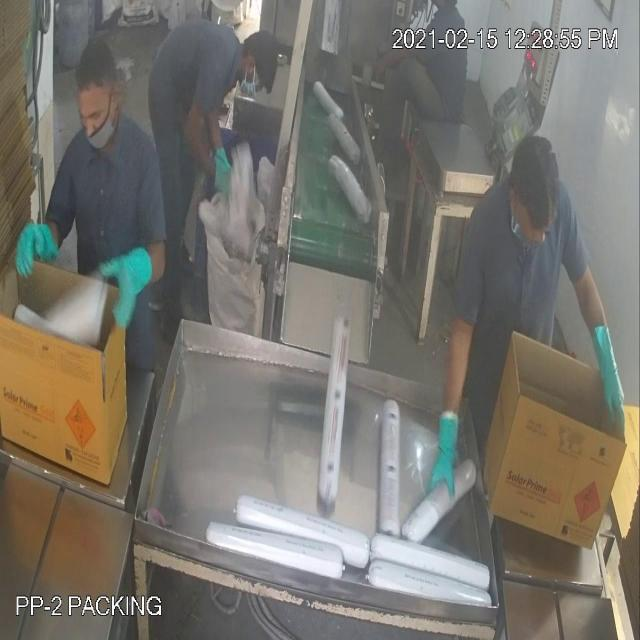Gloves: (41, 42, 611, 454)
